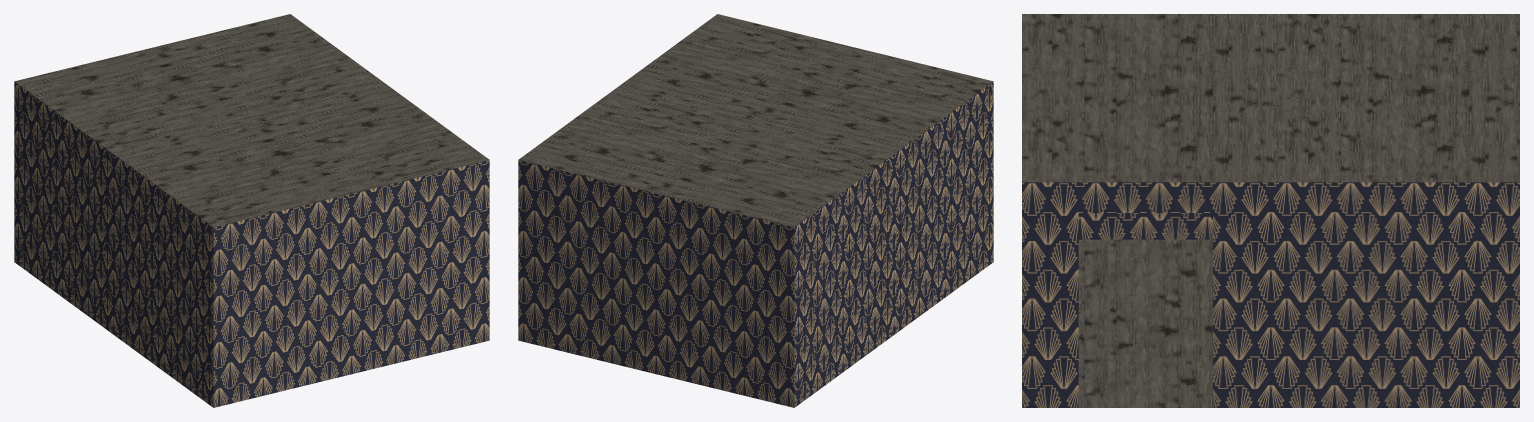
Rendered from bedroom.fbx.
The picture shows the model from 3 angles, left to right: view 1: azimuth 30°, elevation 25°; view 2: azimuth 150°, elevation 25°; view 3: azimuth 270°, elevation 25°; orthographic projection. The views are drawn at different scales.
Parts seen in each view (by area): view 1: pCube52; view 2: pCube52; view 3: pCube52.
Part boxes in pixels (<box>): pCube52: <box>14,14,489,407</box>; pCube52: <box>518,14,993,407</box>; pCube52: <box>1022,14,1519,407</box>.
Bounding box in the file's own units: 4 × 2.5 × 5.
